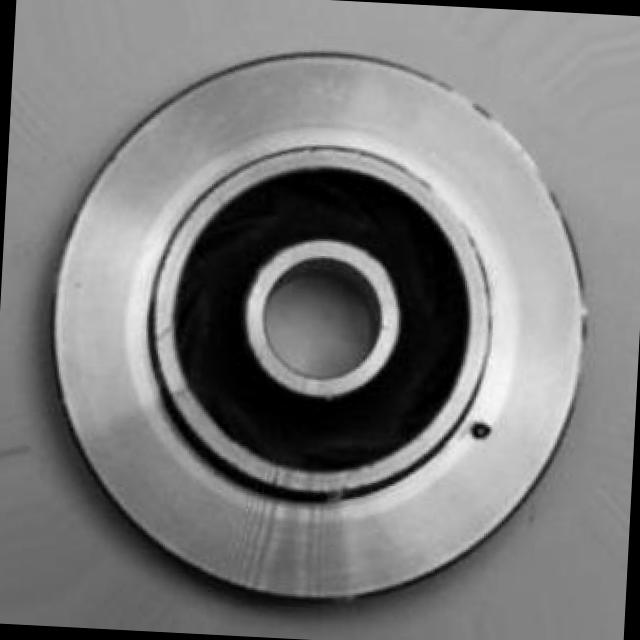Defect: (463, 419, 505, 454)
